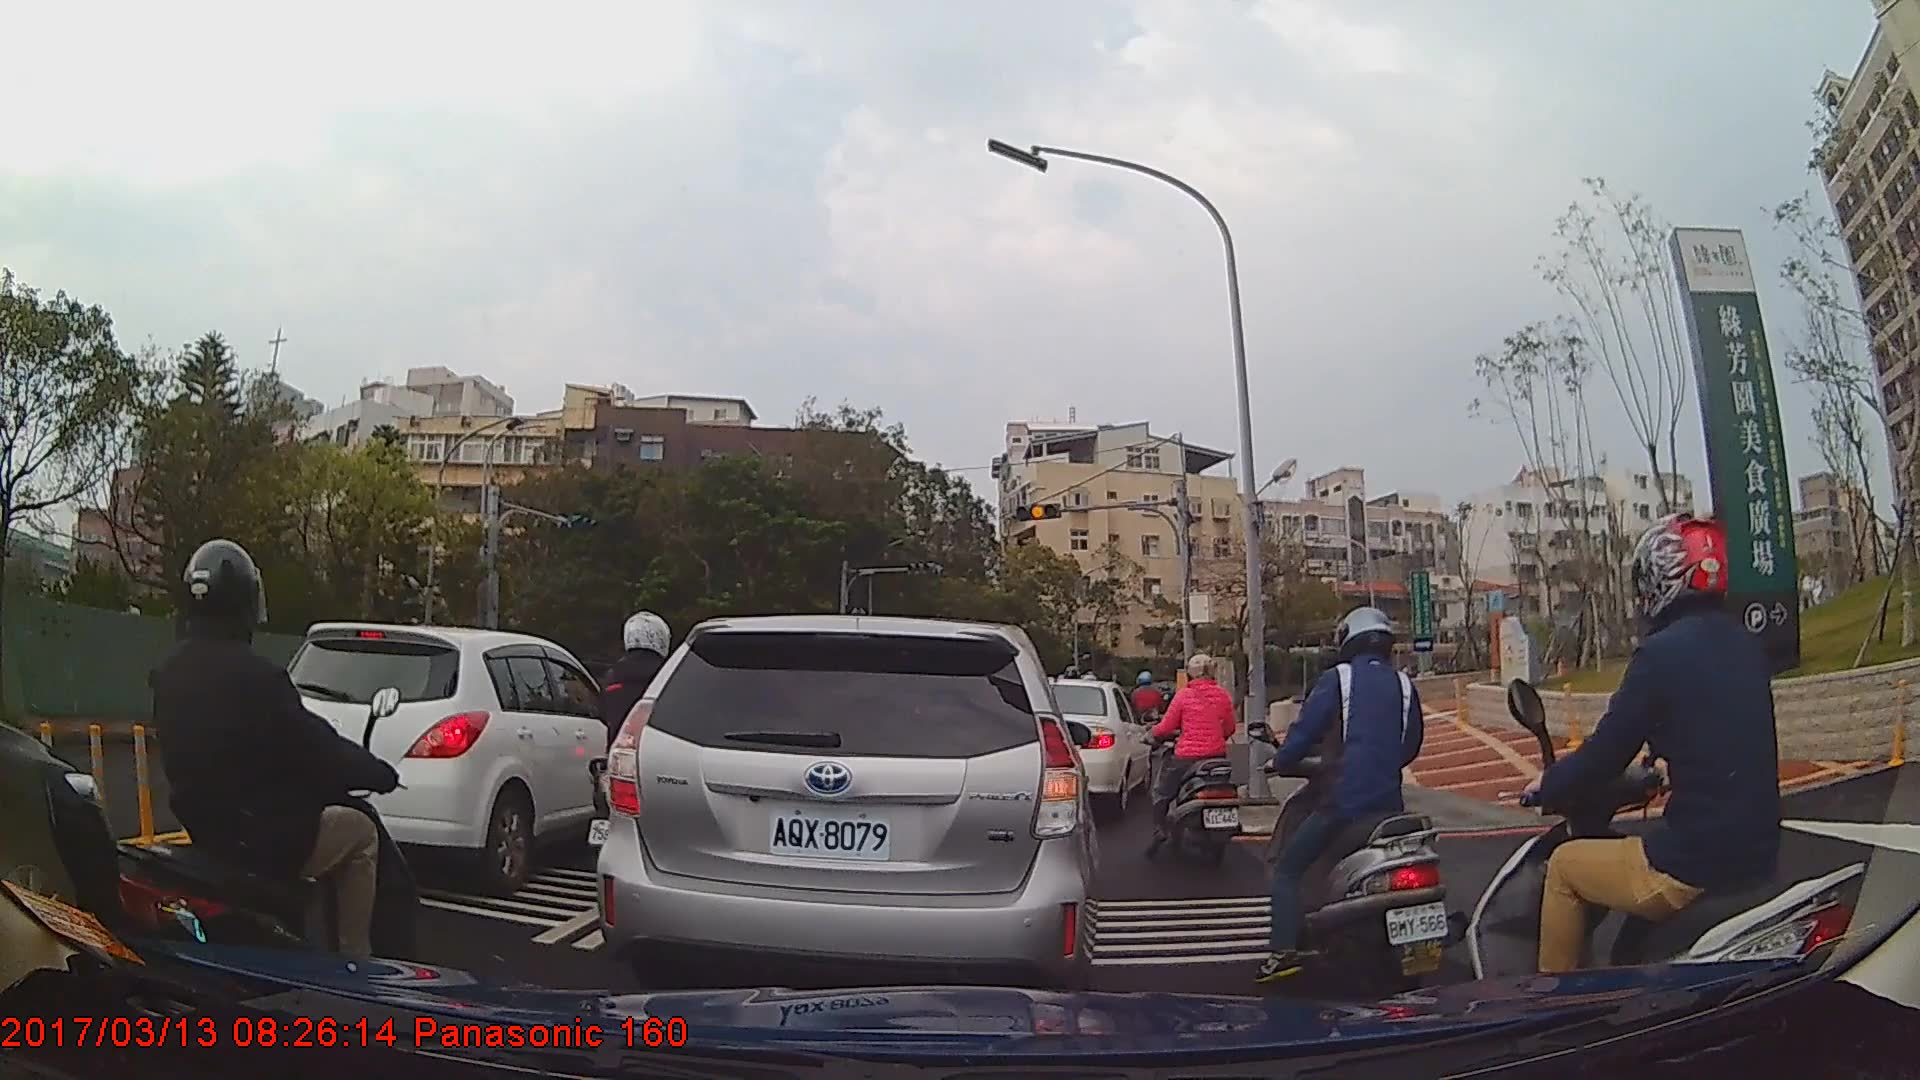rider: (1465, 512, 1875, 1056), (110, 538, 425, 1057), (1250, 606, 1453, 998), (588, 605, 706, 921), (1136, 652, 1245, 865), (1126, 670, 1168, 763)
vehicle: (597, 611, 1100, 990), (266, 620, 641, 885), (1047, 677, 1154, 815)
